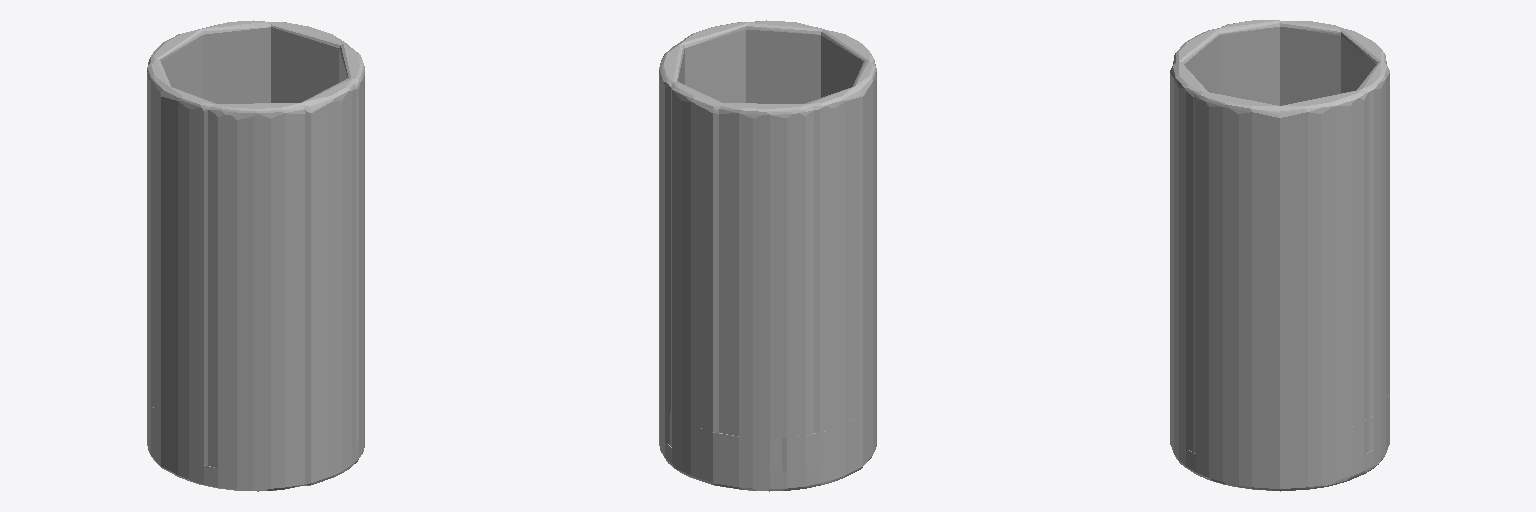
The robot description file, URDF, robot "root":
<robot name="root">
  <link name="link_coacd_convex_piece_0">
    <inertial>
      <origin xyz="0 0 0" rpy="0 0 0"/>
      <inertia ixx="4.89E-03" ixy="2.18E-04" ixz="1.06E-03" iyy="4.86E-03" iyz="-1.14E-03" izz="7.14E-04"/>
    </inertial>
    <visual>
      <origin xyz="0 0 0" rpy="0 0 0"/>
      <geometry>
        <mesh filename="coacd_convex_piece_0.obj" scale="1.0000E+00 1.0000E+00 1.0000E+00"/>
      </geometry>
      <material name="">
        <color rgba="7.50E-01 7.50E-01 7.50E-01 1"/>
      </material>
    </visual>
    <collision>
      <origin xyz="0 0 0" rpy="0 0 0"/>
      <geometry>
        <mesh filename="coacd_convex_piece_0.obj" scale="1.0000E+00 1.0000E+00 1.0000E+00"/>
      </geometry>
    </collision>
  </link>
  <link name="link_coacd_convex_piece_1">
    <inertial>
      <origin xyz="0 0 0" rpy="0 0 0"/>
      <inertia ixx="4.32E-03" ixy="-2.18E-04" ixz="-1.06E-03" iyy="4.35E-03" iyz="-9.78E-04" izz="6.57E-04"/>
    </inertial>
    <visual>
      <origin xyz="0 0 0" rpy="0 0 0"/>
      <geometry>
        <mesh filename="coacd_convex_piece_1.obj" scale="1.0000E+00 1.0000E+00 1.0000E+00"/>
      </geometry>
      <material name="">
        <color rgba="7.50E-01 7.50E-01 7.50E-01 1"/>
      </material>
    </visual>
    <collision>
      <origin xyz="0 0 0" rpy="0 0 0"/>
      <geometry>
        <mesh filename="coacd_convex_piece_1.obj" scale="1.0000E+00 1.0000E+00 1.0000E+00"/>
      </geometry>
    </collision>
  </link>
  <joint name="link_coacd_convex_piece_1_joint" type="fixed">
    <origin xyz="0 0 0" rpy="0 0 0"/>
    <parent link="link_coacd_convex_piece_0"/>
    <child link="link_coacd_convex_piece_1"/>
  </joint>
  <link name="link_coacd_convex_piece_2">
    <inertial>
      <origin xyz="0 0 0" rpy="0 0 0"/>
      <inertia ixx="3.87E-03" ixy="-1.11E-03" ixz="-8.22E-04" iyy="5.55E-03" iyz="-4.08E-04" izz="3.18E-03"/>
    </inertial>
    <visual>
      <origin xyz="0 0 0" rpy="0 0 0"/>
      <geometry>
        <mesh filename="coacd_convex_piece_2.obj" scale="1.0000E+00 1.0000E+00 1.0000E+00"/>
      </geometry>
      <material name="">
        <color rgba="7.50E-01 7.50E-01 7.50E-01 1"/>
      </material>
    </visual>
    <collision>
      <origin xyz="0 0 0" rpy="0 0 0"/>
      <geometry>
        <mesh filename="coacd_convex_piece_2.obj" scale="1.0000E+00 1.0000E+00 1.0000E+00"/>
      </geometry>
    </collision>
  </link>
  <joint name="link_coacd_convex_piece_2_joint" type="fixed">
    <origin xyz="0 0 0" rpy="0 0 0"/>
    <parent link="link_coacd_convex_piece_1"/>
    <child link="link_coacd_convex_piece_2"/>
  </joint>
  <link name="link_coacd_convex_piece_3">
    <inertial>
      <origin xyz="0 0 0" rpy="0 0 0"/>
      <inertia ixx="4.08E-03" ixy="-5.67E-04" ixz="-1.87E-04" iyy="2.39E-03" iyz="-6.11E-04" izz="2.20E-03"/>
    </inertial>
    <visual>
      <origin xyz="0 0 0" rpy="0 0 0"/>
      <geometry>
        <mesh filename="coacd_convex_piece_3.obj" scale="1.0000E+00 1.0000E+00 1.0000E+00"/>
      </geometry>
      <material name="">
        <color rgba="7.50E-01 7.50E-01 7.50E-01 1"/>
      </material>
    </visual>
    <collision>
      <origin xyz="0 0 0" rpy="0 0 0"/>
      <geometry>
        <mesh filename="coacd_convex_piece_3.obj" scale="1.0000E+00 1.0000E+00 1.0000E+00"/>
      </geometry>
    </collision>
  </link>
  <joint name="link_coacd_convex_piece_3_joint" type="fixed">
    <origin xyz="0 0 0" rpy="0 0 0"/>
    <parent link="link_coacd_convex_piece_2"/>
    <child link="link_coacd_convex_piece_3"/>
  </joint>
  <link name="link_coacd_convex_piece_4">
    <inertial>
      <origin xyz="0 0 0" rpy="0 0 0"/>
      <inertia ixx="4.90E-03" ixy="1.06E-03" ixz="3.91E-04" iyy="3.51E-03" iyz="-7.26E-04" izz="2.85E-03"/>
    </inertial>
    <visual>
      <origin xyz="0 0 0" rpy="0 0 0"/>
      <geometry>
        <mesh filename="coacd_convex_piece_4.obj" scale="1.0000E+00 1.0000E+00 1.0000E+00"/>
      </geometry>
      <material name="">
        <color rgba="7.50E-01 7.50E-01 7.50E-01 1"/>
      </material>
    </visual>
    <collision>
      <origin xyz="0 0 0" rpy="0 0 0"/>
      <geometry>
        <mesh filename="coacd_convex_piece_4.obj" scale="1.0000E+00 1.0000E+00 1.0000E+00"/>
      </geometry>
    </collision>
  </link>
  <joint name="link_coacd_convex_piece_4_joint" type="fixed">
    <origin xyz="0 0 0" rpy="0 0 0"/>
    <parent link="link_coacd_convex_piece_3"/>
    <child link="link_coacd_convex_piece_4"/>
  </joint>
  <link name="link_coacd_convex_piece_5">
    <inertial>
      <origin xyz="0 0 0" rpy="0 0 0"/>
      <inertia ixx="2.16E-03" ixy="5.55E-04" ixz="5.46E-04" iyy="3.64E-03" iyz="-1.82E-04" izz="1.98E-03"/>
    </inertial>
    <visual>
      <origin xyz="0 0 0" rpy="0 0 0"/>
      <geometry>
        <mesh filename="coacd_convex_piece_5.obj" scale="1.0000E+00 1.0000E+00 1.0000E+00"/>
      </geometry>
      <material name="">
        <color rgba="7.50E-01 7.50E-01 7.50E-01 1"/>
      </material>
    </visual>
    <collision>
      <origin xyz="0 0 0" rpy="0 0 0"/>
      <geometry>
        <mesh filename="coacd_convex_piece_5.obj" scale="1.0000E+00 1.0000E+00 1.0000E+00"/>
      </geometry>
    </collision>
  </link>
  <joint name="link_coacd_convex_piece_5_joint" type="fixed">
    <origin xyz="0 0 0" rpy="0 0 0"/>
    <parent link="link_coacd_convex_piece_4"/>
    <child link="link_coacd_convex_piece_5"/>
  </joint>
  <link name="link_coacd_convex_piece_6">
    <inertial>
      <origin xyz="0 0 0" rpy="0 0 0"/>
      <inertia ixx="4.40E-03" ixy="-2.06E-04" ixz="1.00E-03" iyy="4.40E-03" iyz="1.00E-03" izz="6.47E-04"/>
    </inertial>
    <visual>
      <origin xyz="0 0 0" rpy="0 0 0"/>
      <geometry>
        <mesh filename="coacd_convex_piece_6.obj" scale="1.0000E+00 1.0000E+00 1.0000E+00"/>
      </geometry>
      <material name="">
        <color rgba="7.50E-01 7.50E-01 7.50E-01 1"/>
      </material>
    </visual>
    <collision>
      <origin xyz="0 0 0" rpy="0 0 0"/>
      <geometry>
        <mesh filename="coacd_convex_piece_6.obj" scale="1.0000E+00 1.0000E+00 1.0000E+00"/>
      </geometry>
    </collision>
  </link>
  <joint name="link_coacd_convex_piece_6_joint" type="fixed">
    <origin xyz="0 0 0" rpy="0 0 0"/>
    <parent link="link_coacd_convex_piece_5"/>
    <child link="link_coacd_convex_piece_6"/>
  </joint>
  <link name="link_coacd_convex_piece_7">
    <inertial>
      <origin xyz="0 0 0" rpy="0 0 0"/>
      <inertia ixx="4.55E-03" ixy="2.16E-04" ixz="-1.04E-03" iyy="4.55E-03" iyz="1.05E-03" izz="6.76E-04"/>
    </inertial>
    <visual>
      <origin xyz="0 0 0" rpy="0 0 0"/>
      <geometry>
        <mesh filename="coacd_convex_piece_7.obj" scale="1.0000E+00 1.0000E+00 1.0000E+00"/>
      </geometry>
      <material name="">
        <color rgba="7.50E-01 7.50E-01 7.50E-01 1"/>
      </material>
    </visual>
    <collision>
      <origin xyz="0 0 0" rpy="0 0 0"/>
      <geometry>
        <mesh filename="coacd_convex_piece_7.obj" scale="1.0000E+00 1.0000E+00 1.0000E+00"/>
      </geometry>
    </collision>
  </link>
  <joint name="link_coacd_convex_piece_7_joint" type="fixed">
    <origin xyz="0 0 0" rpy="0 0 0"/>
    <parent link="link_coacd_convex_piece_6"/>
    <child link="link_coacd_convex_piece_7"/>
  </joint>
  <link name="link_coacd_convex_piece_8">
    <inertial>
      <origin xyz="0 0 0" rpy="0 0 0"/>
      <inertia ixx="4.38E-03" ixy="1.10E-03" ixz="-2.88E-04" iyy="6.26E-03" iyz="1.38E-04" izz="3.27E-03"/>
    </inertial>
    <visual>
      <origin xyz="0 0 0" rpy="0 0 0"/>
      <geometry>
        <mesh filename="coacd_convex_piece_8.obj" scale="1.0000E+00 1.0000E+00 1.0000E+00"/>
      </geometry>
      <material name="">
        <color rgba="7.50E-01 7.50E-01 7.50E-01 1"/>
      </material>
    </visual>
    <collision>
      <origin xyz="0 0 0" rpy="0 0 0"/>
      <geometry>
        <mesh filename="coacd_convex_piece_8.obj" scale="1.0000E+00 1.0000E+00 1.0000E+00"/>
      </geometry>
    </collision>
  </link>
  <joint name="link_coacd_convex_piece_8_joint" type="fixed">
    <origin xyz="0 0 0" rpy="0 0 0"/>
    <parent link="link_coacd_convex_piece_7"/>
    <child link="link_coacd_convex_piece_8"/>
  </joint>
  <link name="link_coacd_convex_piece_9">
    <inertial>
      <origin xyz="0 0 0" rpy="0 0 0"/>
      <inertia ixx="5.81E-03" ixy="8.16E-04" ixz="-8.07E-05" iyy="3.72E-03" iyz="2.41E-04" izz="2.91E-03"/>
    </inertial>
    <visual>
      <origin xyz="0 0 0" rpy="0 0 0"/>
      <geometry>
        <mesh filename="coacd_convex_piece_9.obj" scale="1.0000E+00 1.0000E+00 1.0000E+00"/>
      </geometry>
      <material name="">
        <color rgba="7.50E-01 7.50E-01 7.50E-01 1"/>
      </material>
    </visual>
    <collision>
      <origin xyz="0 0 0" rpy="0 0 0"/>
      <geometry>
        <mesh filename="coacd_convex_piece_9.obj" scale="1.0000E+00 1.0000E+00 1.0000E+00"/>
      </geometry>
    </collision>
  </link>
  <joint name="link_coacd_convex_piece_9_joint" type="fixed">
    <origin xyz="0 0 0" rpy="0 0 0"/>
    <parent link="link_coacd_convex_piece_8"/>
    <child link="link_coacd_convex_piece_9"/>
  </joint>
  <link name="link_coacd_convex_piece_10">
    <inertial>
      <origin xyz="0 0 0" rpy="0 0 0"/>
      <inertia ixx="2.74E-03" ixy="-6.14E-04" ixz="1.82E-04" iyy="4.43E-03" iyz="5.68E-05" izz="2.22E-03"/>
    </inertial>
    <visual>
      <origin xyz="0 0 0" rpy="0 0 0"/>
      <geometry>
        <mesh filename="coacd_convex_piece_10.obj" scale="1.0000E+00 1.0000E+00 1.0000E+00"/>
      </geometry>
      <material name="">
        <color rgba="7.50E-01 7.50E-01 7.50E-01 1"/>
      </material>
    </visual>
    <collision>
      <origin xyz="0 0 0" rpy="0 0 0"/>
      <geometry>
        <mesh filename="coacd_convex_piece_10.obj" scale="1.0000E+00 1.0000E+00 1.0000E+00"/>
      </geometry>
    </collision>
  </link>
  <joint name="link_coacd_convex_piece_10_joint" type="fixed">
    <origin xyz="0 0 0" rpy="0 0 0"/>
    <parent link="link_coacd_convex_piece_9"/>
    <child link="link_coacd_convex_piece_10"/>
  </joint>
  <link name="link_coacd_convex_piece_11">
    <inertial>
      <origin xyz="0 0 0" rpy="0 0 0"/>
      <inertia ixx="6.19E-03" ixy="-1.24E-03" ixz="1.60E-04" iyy="4.61E-03" iyz="2.87E-04" izz="3.31E-03"/>
    </inertial>
    <visual>
      <origin xyz="0 0 0" rpy="0 0 0"/>
      <geometry>
        <mesh filename="coacd_convex_piece_11.obj" scale="1.0000E+00 1.0000E+00 1.0000E+00"/>
      </geometry>
      <material name="">
        <color rgba="7.50E-01 7.50E-01 7.50E-01 1"/>
      </material>
    </visual>
    <collision>
      <origin xyz="0 0 0" rpy="0 0 0"/>
      <geometry>
        <mesh filename="coacd_convex_piece_11.obj" scale="1.0000E+00 1.0000E+00 1.0000E+00"/>
      </geometry>
    </collision>
  </link>
  <joint name="link_coacd_convex_piece_11_joint" type="fixed">
    <origin xyz="0 0 0" rpy="0 0 0"/>
    <parent link="link_coacd_convex_piece_10"/>
    <child link="link_coacd_convex_piece_11"/>
  </joint>
  <link name="link_coacd_convex_piece_12">
    <inertial>
      <origin xyz="0 0 0" rpy="0 0 0"/>
      <inertia ixx="1.06E-03" ixy="-1.23E-04" ixz="5.28E-04" iyy="1.25E-03" iyz="2.59E-04" izz="3.56E-04"/>
    </inertial>
    <visual>
      <origin xyz="0 0 0" rpy="0 0 0"/>
      <geometry>
        <mesh filename="coacd_convex_piece_12.obj" scale="1.0000E+00 1.0000E+00 1.0000E+00"/>
      </geometry>
      <material name="">
        <color rgba="7.50E-01 7.50E-01 7.50E-01 1"/>
      </material>
    </visual>
    <collision>
      <origin xyz="0 0 0" rpy="0 0 0"/>
      <geometry>
        <mesh filename="coacd_convex_piece_12.obj" scale="1.0000E+00 1.0000E+00 1.0000E+00"/>
      </geometry>
    </collision>
  </link>
  <joint name="link_coacd_convex_piece_12_joint" type="fixed">
    <origin xyz="0 0 0" rpy="0 0 0"/>
    <parent link="link_coacd_convex_piece_11"/>
    <child link="link_coacd_convex_piece_12"/>
  </joint>
  <link name="link_coacd_convex_piece_13">
    <inertial>
      <origin xyz="0 0 0" rpy="0 0 0"/>
      <inertia ixx="9.26E-04" ixy="-7.35E-05" ixz="1.42E-04" iyy="7.42E-04" iyz="4.03E-04" izz="2.53E-04"/>
    </inertial>
    <visual>
      <origin xyz="0 0 0" rpy="0 0 0"/>
      <geometry>
        <mesh filename="coacd_convex_piece_13.obj" scale="1.0000E+00 1.0000E+00 1.0000E+00"/>
      </geometry>
      <material name="">
        <color rgba="7.50E-01 7.50E-01 7.50E-01 1"/>
      </material>
    </visual>
    <collision>
      <origin xyz="0 0 0" rpy="0 0 0"/>
      <geometry>
        <mesh filename="coacd_convex_piece_13.obj" scale="1.0000E+00 1.0000E+00 1.0000E+00"/>
      </geometry>
    </collision>
  </link>
  <joint name="link_coacd_convex_piece_13_joint" type="fixed">
    <origin xyz="0 0 0" rpy="0 0 0"/>
    <parent link="link_coacd_convex_piece_12"/>
    <child link="link_coacd_convex_piece_13"/>
  </joint>
  <link name="link_coacd_convex_piece_14">
    <inertial>
      <origin xyz="0 0 0" rpy="0 0 0"/>
      <inertia ixx="8.61E-04" ixy="7.30E-05" ixz="-1.40E-04" iyy="6.90E-04" iyz="3.78E-04" izz="2.43E-04"/>
    </inertial>
    <visual>
      <origin xyz="0 0 0" rpy="0 0 0"/>
      <geometry>
        <mesh filename="coacd_convex_piece_14.obj" scale="1.0000E+00 1.0000E+00 1.0000E+00"/>
      </geometry>
      <material name="">
        <color rgba="7.50E-01 7.50E-01 7.50E-01 1"/>
      </material>
    </visual>
    <collision>
      <origin xyz="0 0 0" rpy="0 0 0"/>
      <geometry>
        <mesh filename="coacd_convex_piece_14.obj" scale="1.0000E+00 1.0000E+00 1.0000E+00"/>
      </geometry>
    </collision>
  </link>
  <joint name="link_coacd_convex_piece_14_joint" type="fixed">
    <origin xyz="0 0 0" rpy="0 0 0"/>
    <parent link="link_coacd_convex_piece_13"/>
    <child link="link_coacd_convex_piece_14"/>
  </joint>
  <link name="link_coacd_convex_piece_15">
    <inertial>
      <origin xyz="0 0 0" rpy="0 0 0"/>
      <inertia ixx="8.79E-04" ixy="1.03E-04" ixz="-4.53E-04" iyy="1.05E-03" iyz="2.08E-04" izz="3.05E-04"/>
    </inertial>
    <visual>
      <origin xyz="0 0 0" rpy="0 0 0"/>
      <geometry>
        <mesh filename="coacd_convex_piece_15.obj" scale="1.0000E+00 1.0000E+00 1.0000E+00"/>
      </geometry>
      <material name="">
        <color rgba="7.50E-01 7.50E-01 7.50E-01 1"/>
      </material>
    </visual>
    <collision>
      <origin xyz="0 0 0" rpy="0 0 0"/>
      <geometry>
        <mesh filename="coacd_convex_piece_15.obj" scale="1.0000E+00 1.0000E+00 1.0000E+00"/>
      </geometry>
    </collision>
  </link>
  <joint name="link_coacd_convex_piece_15_joint" type="fixed">
    <origin xyz="0 0 0" rpy="0 0 0"/>
    <parent link="link_coacd_convex_piece_14"/>
    <child link="link_coacd_convex_piece_15"/>
  </joint>
</robot>

--- What the picture shows (computed from the rendered views, not written in the file) ---
3 views of the same robot in one strip: view 1: azimuth 30°, elevation 25°; view 2: azimuth 150°, elevation 25°; view 3: azimuth 270°, elevation 25° (orthographic).
Model root with 16 links and 15 joints (15 fixed), rooted at link_coacd_convex_piece_0, posed every joint at zero.
Visible links, largest first — view 1: link_coacd_convex_piece_11, link_coacd_convex_piece_9, link_coacd_convex_piece_10, link_coacd_convex_piece_3, link_coacd_convex_piece_5, link_coacd_convex_piece_2, link_coacd_convex_piece_8, link_coacd_convex_piece_1, link_coacd_convex_piece_4, link_coacd_convex_piece_0; view 2: link_coacd_convex_piece_4, link_coacd_convex_piece_5, link_coacd_convex_piece_3, link_coacd_convex_piece_9, link_coacd_convex_piece_10, link_coacd_convex_piece_2, link_coacd_convex_piece_8, link_coacd_convex_piece_7, link_coacd_convex_piece_15, link_coacd_convex_piece_11, link_coacd_convex_piece_14, link_coacd_convex_piece_13 (+1 smaller); view 3: link_coacd_convex_piece_8, link_coacd_convex_piece_2, link_coacd_convex_piece_9, link_coacd_convex_piece_3, link_coacd_convex_piece_5, link_coacd_convex_piece_10, link_coacd_convex_piece_12, link_coacd_convex_piece_0, link_coacd_convex_piece_6, link_coacd_convex_piece_11, link_coacd_convex_piece_4, link_coacd_convex_piece_13.
Boxes of the visible links, bbox=[...] form: link_coacd_convex_piece_11: bbox=[208, 103, 304, 470]; link_coacd_convex_piece_9: bbox=[301, 78, 355, 465]; link_coacd_convex_piece_10: bbox=[161, 86, 215, 465]; link_coacd_convex_piece_3: bbox=[201, 20, 270, 103]; link_coacd_convex_piece_5: bbox=[147, 59, 170, 414]; link_coacd_convex_piece_2: bbox=[268, 22, 347, 102]; link_coacd_convex_piece_8: bbox=[339, 43, 364, 442]; link_coacd_convex_piece_1: bbox=[161, 449, 304, 491]; link_coacd_convex_piece_4: bbox=[148, 29, 202, 97]; link_coacd_convex_piece_0: bbox=[304, 430, 364, 485]; link_coacd_convex_piece_4: bbox=[719, 103, 813, 437]; link_coacd_convex_piece_5: bbox=[805, 86, 862, 432]; link_coacd_convex_piece_3: bbox=[671, 81, 721, 432]; link_coacd_convex_piece_9: bbox=[746, 20, 822, 103]; link_coacd_convex_piece_10: bbox=[853, 60, 876, 447]; link_coacd_convex_piece_2: bbox=[659, 44, 684, 411]; link_coacd_convex_piece_8: bbox=[678, 22, 749, 102]; link_coacd_convex_piece_7: bbox=[713, 449, 862, 491]; link_coacd_convex_piece_15: bbox=[782, 416, 862, 470]; link_coacd_convex_piece_11: bbox=[821, 29, 875, 97]; link_coacd_convex_piece_14: bbox=[713, 432, 781, 470]; link_coacd_convex_piece_13: bbox=[670, 412, 712, 465]; link_coacd_convex_piece_8: bbox=[1193, 91, 1279, 470]; link_coacd_convex_piece_2: bbox=[1280, 89, 1368, 437]; link_coacd_convex_piece_9: bbox=[1170, 61, 1207, 451]; link_coacd_convex_piece_3: bbox=[1357, 61, 1389, 416]; link_coacd_convex_piece_5: bbox=[1280, 21, 1340, 105]; link_coacd_convex_piece_10: bbox=[1220, 20, 1279, 105]; link_coacd_convex_piece_12: bbox=[1280, 418, 1368, 472]; link_coacd_convex_piece_0: bbox=[1170, 427, 1279, 490]; link_coacd_convex_piece_6: bbox=[1280, 428, 1389, 491]; link_coacd_convex_piece_11: bbox=[1173, 28, 1219, 93]; link_coacd_convex_piece_4: bbox=[1341, 28, 1386, 92]; link_coacd_convex_piece_13: bbox=[1369, 394, 1389, 451].
Size in the robot's own frame: 0.9129 by 0.9129 by 1.75 metres.
16 mesh visuals loaded from 16 distinct referenced files (16 OBJ).
